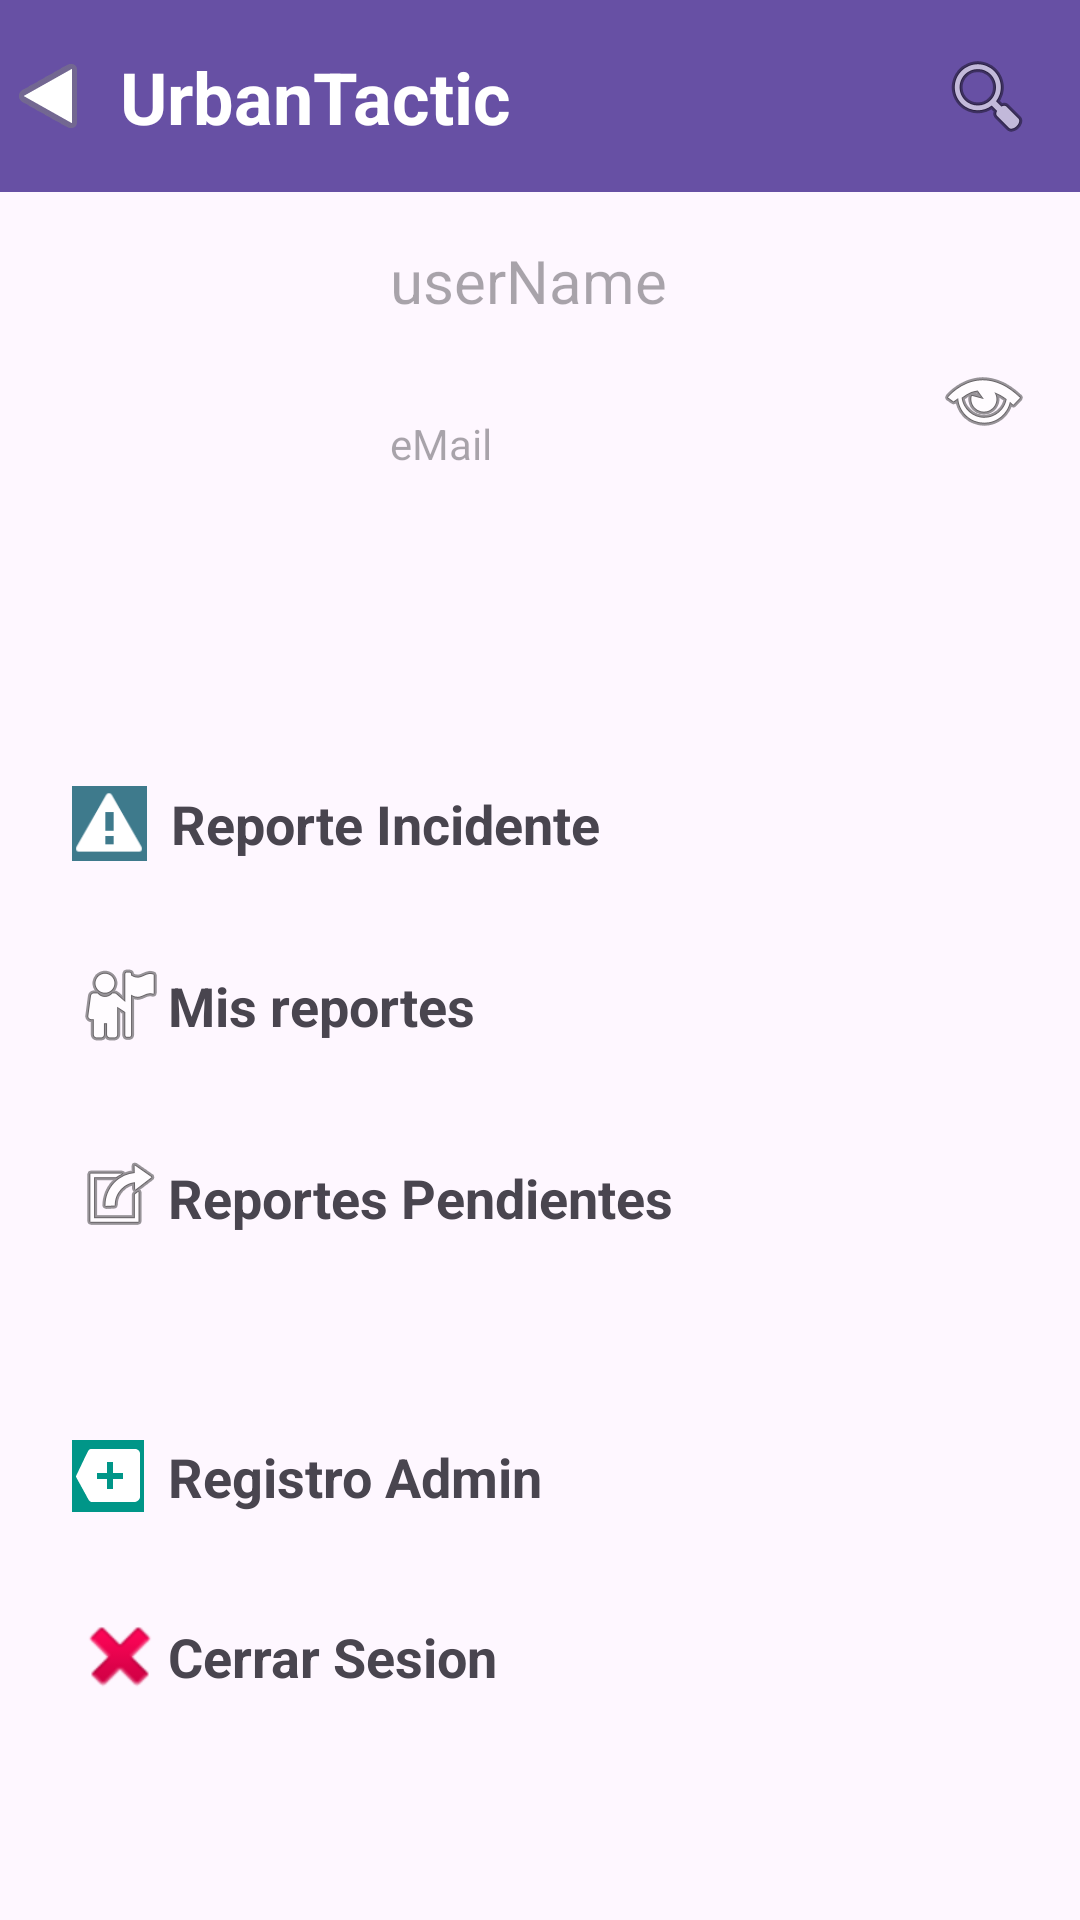

Point at icon controls on the screen. Image size 1080px x 1920px, points as point (x, y).
delete: point (120, 1656)
myplaces: point (121, 1005)
search: point (987, 96)
set as: point (121, 1193)
view: point (984, 401)
warning: point (109, 823)
